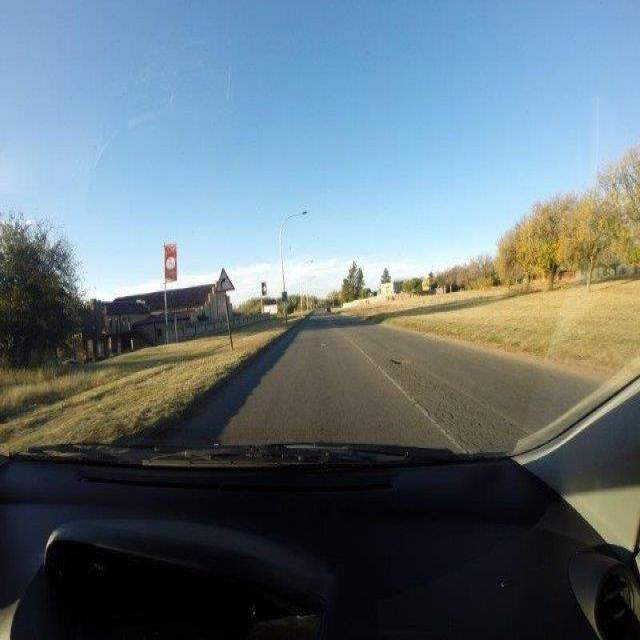lubang: (387, 355, 410, 365)
